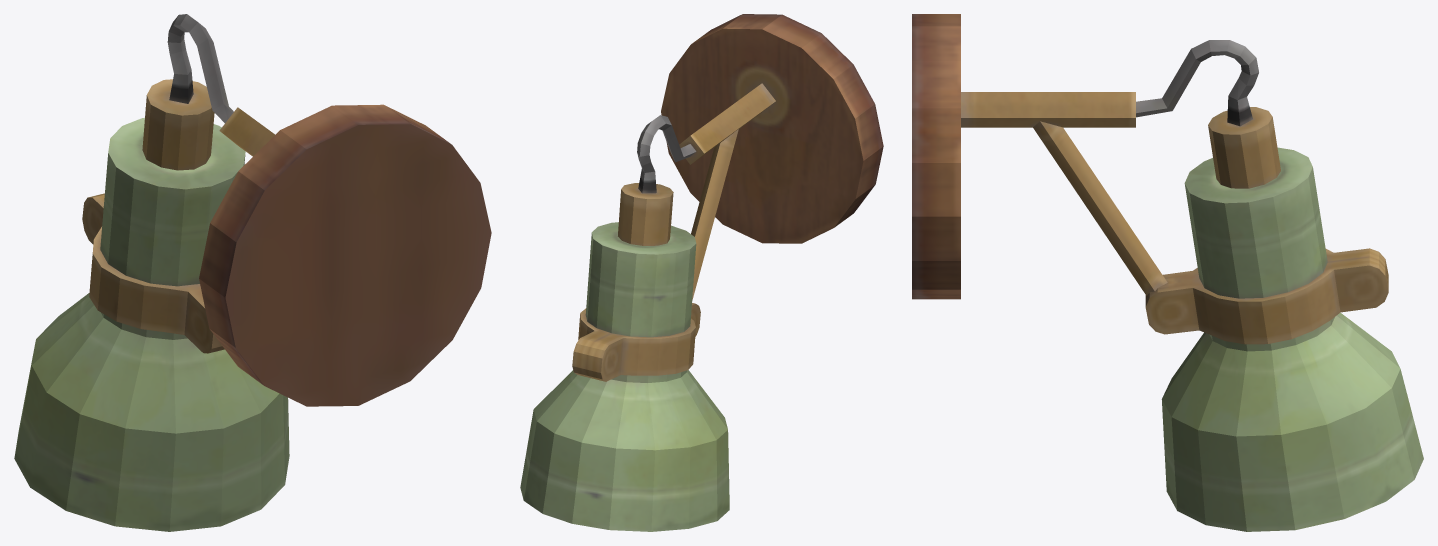
The model's file is P_WallLamp_001_S1_M01.obj.
3 views of the same model, side by side, from view 1: azimuth 30°, elevation 25°; view 2: azimuth 150°, elevation 25°; view 3: azimuth 270°, elevation 25° (orthographic). The views are drawn at different scales.
Bounding box in the file's own units: 0.2733 × 0.4927 × 0.4913.
1 material, 1 textured.
